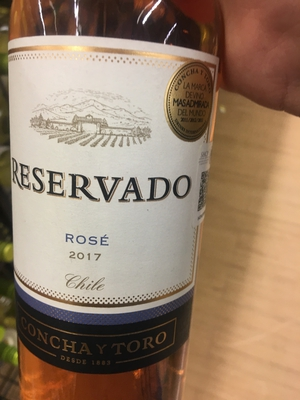reservado rose: (11, 3, 211, 400)
